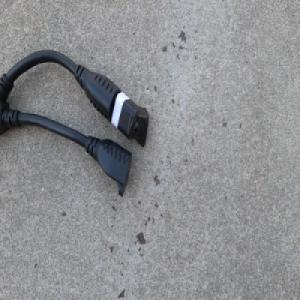Wire: (0, 49, 150, 198)
